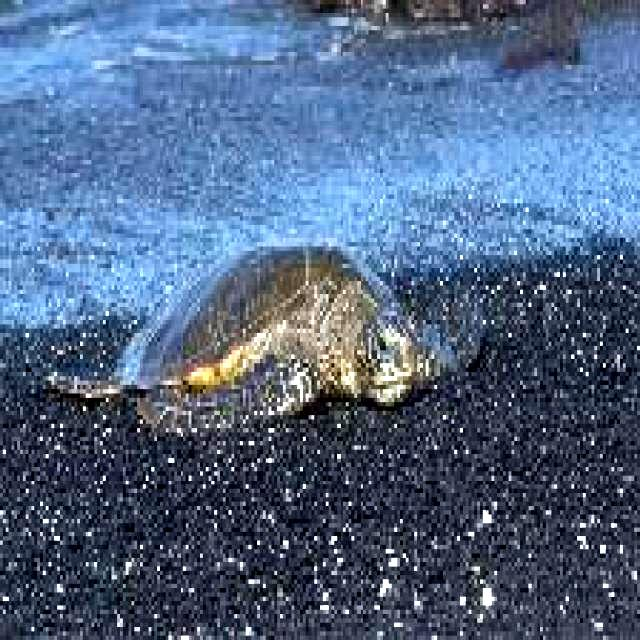Sea turtle: (30, 227, 492, 444)
